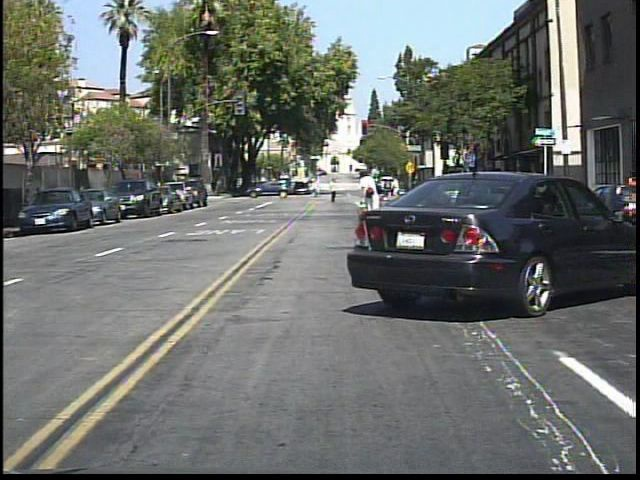person: (354, 165, 387, 239), (621, 164, 639, 233), (515, 164, 534, 222), (386, 169, 407, 203), (326, 176, 342, 206)
